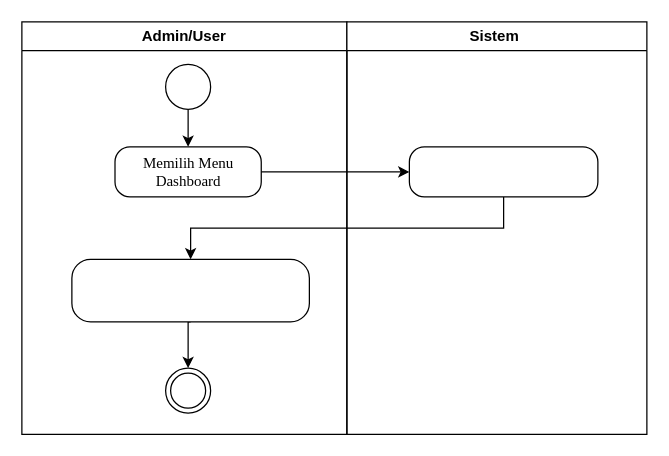
Image size: 669x456. Some labels were removed from this diagram. Here are the shapes that lost their labels. From the top down, the centre of each, then its label:
At (503,171): "Menampilkan Halaman Dahboard".
At (190,290): "Melihat Halaman Dashboard yang berisi data kapasitas Tempat Sampah".
